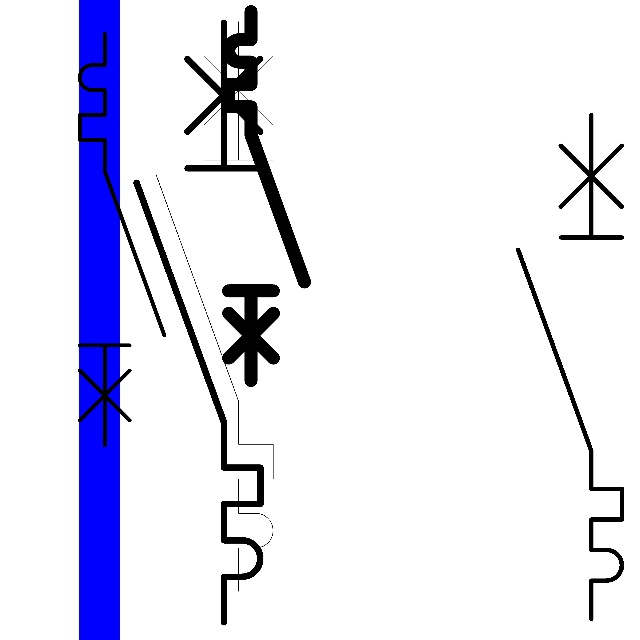interruptor_termomagnetico: (121, 7, 276, 638), (141, 7, 288, 606), (505, 102, 635, 632), (69, 23, 175, 455), (219, 2, 314, 390)
